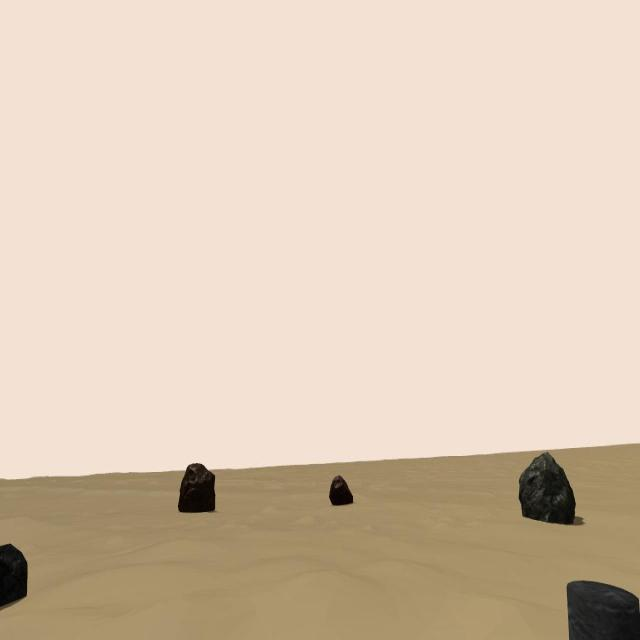rock: (518, 452, 576, 524), (177, 464, 216, 513), (0, 544, 28, 610), (329, 475, 354, 506)
